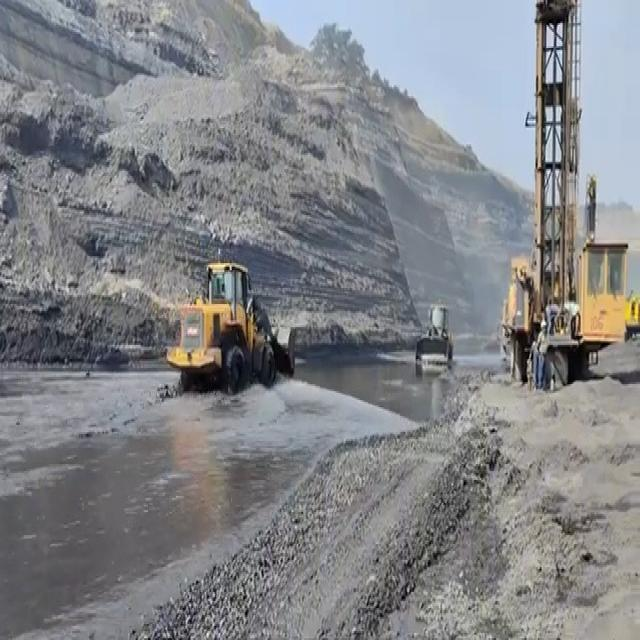buldozerpayloadergrader: (173, 253, 295, 386), (413, 294, 455, 373)
